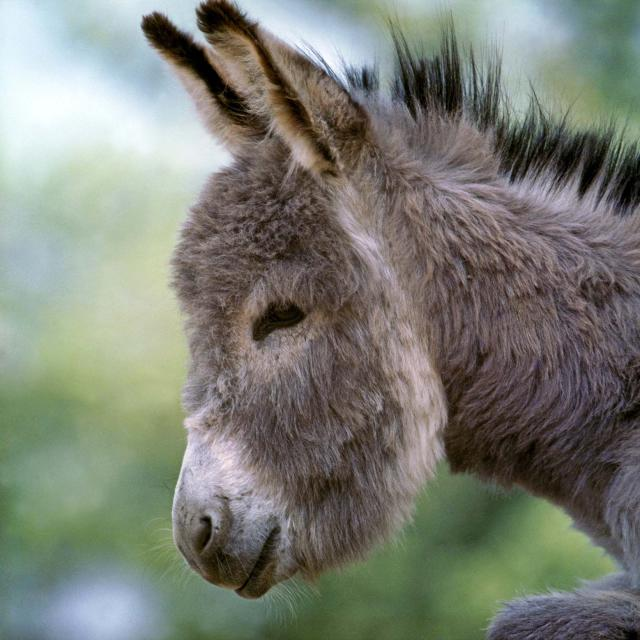Donkey: (138, 3, 640, 640)
